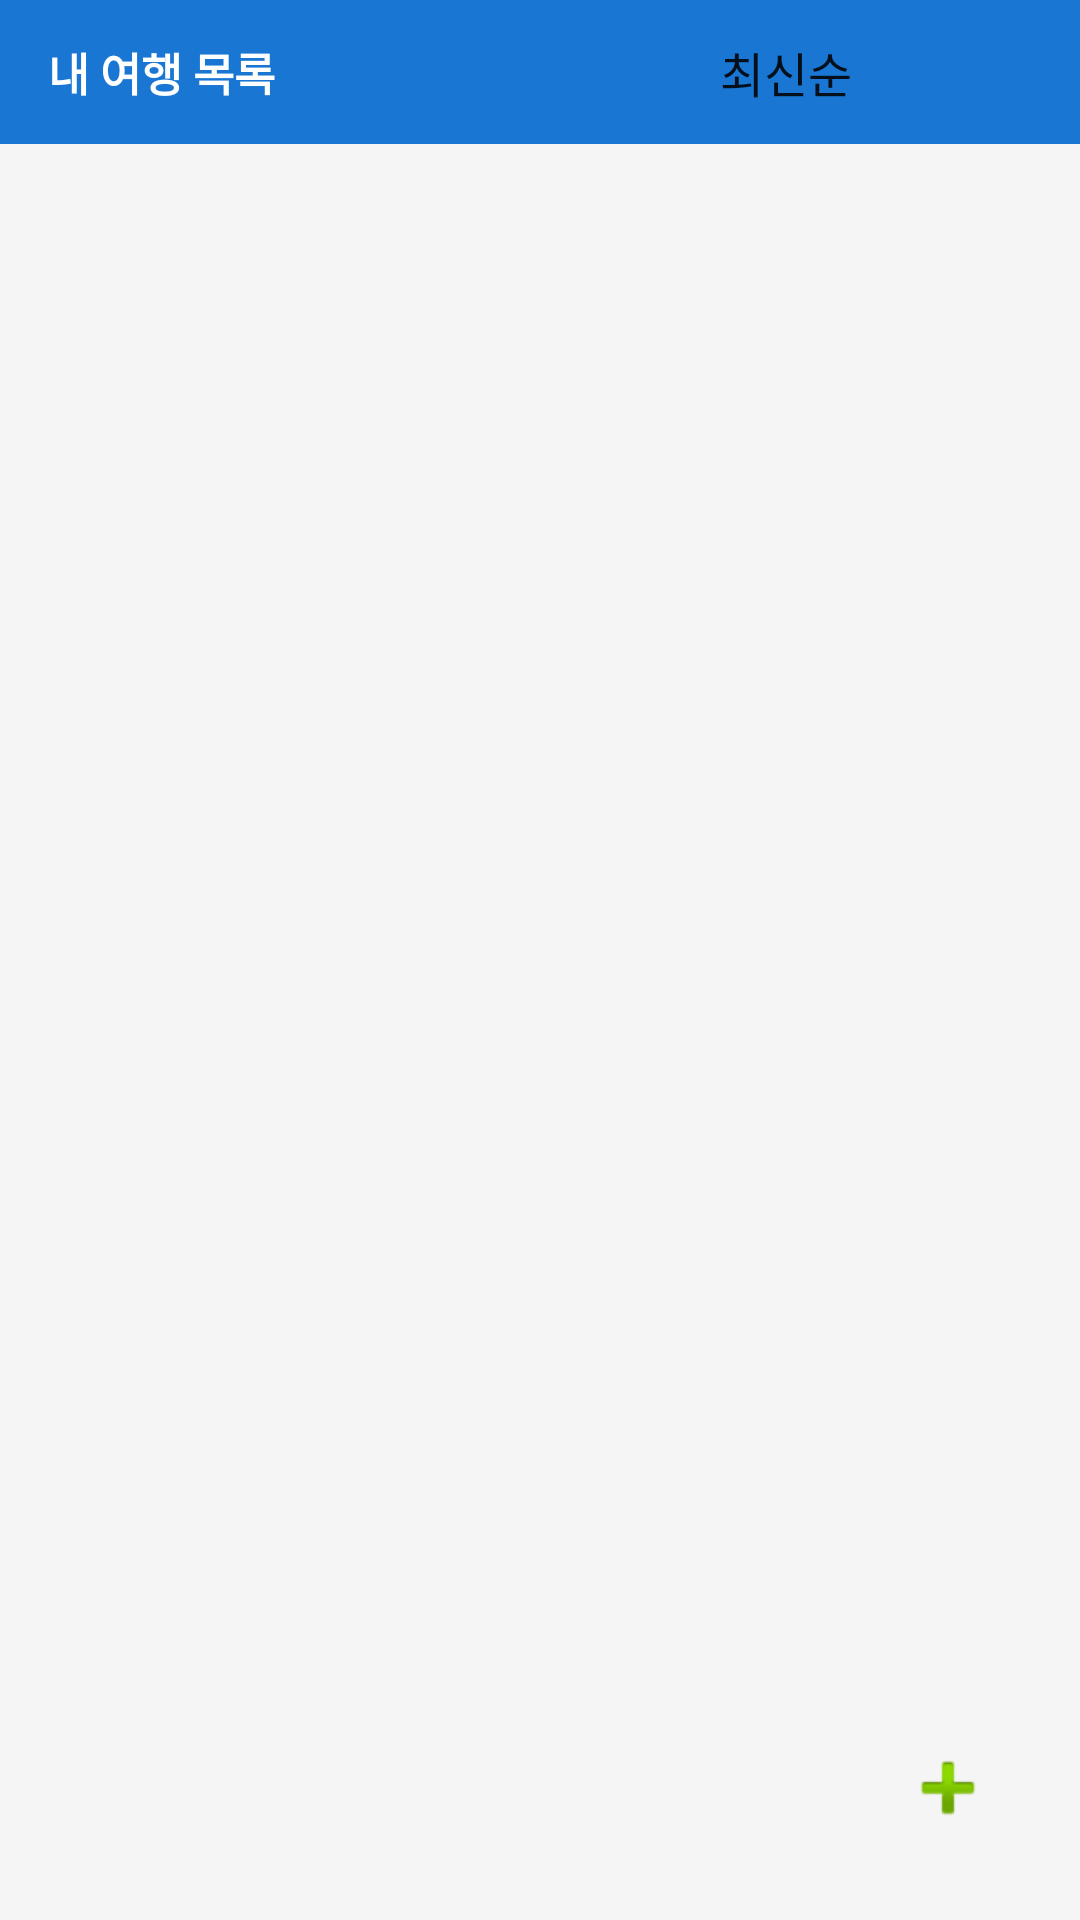

Point at icon controls on the screen. Image size 1080w x 1920h, points as (x=x, y=y).
새 여행 추가: (x=948, y=1788)
